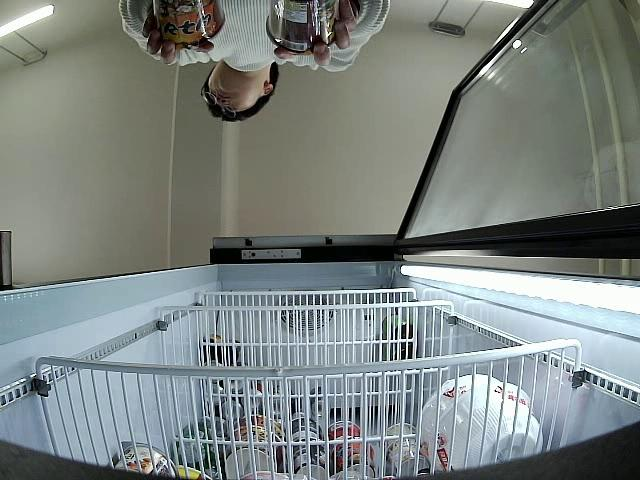00_hand: (274, 0, 359, 69), (141, 0, 214, 64)
06_nuguri_S: (266, 0, 344, 54), (150, 0, 225, 45)
